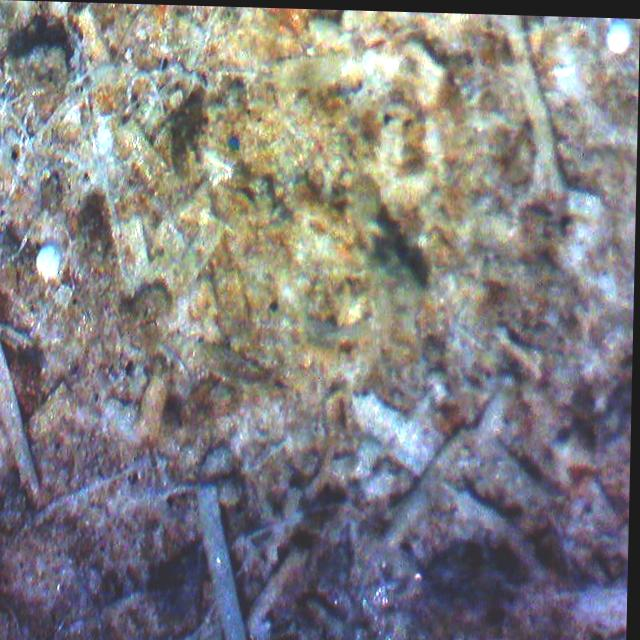microplastic: (228, 135, 242, 152)
